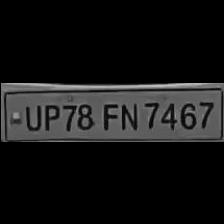4: (157, 98, 175, 130)
6: (178, 97, 196, 128)
7: (140, 98, 158, 130), (197, 97, 214, 129), (58, 99, 74, 131)
8: (74, 100, 94, 130)
F: (98, 98, 119, 130)
N: (118, 98, 138, 130)
P: (39, 99, 59, 130)
U: (21, 100, 39, 130)
